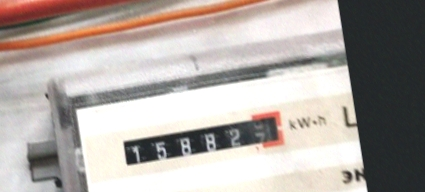1: (129, 143, 141, 162)
2: (226, 125, 241, 146)
5: (151, 138, 167, 159)
7: (251, 128, 265, 142)
8: (201, 129, 217, 151), (177, 134, 192, 155)
screen: (115, 107, 288, 173)
